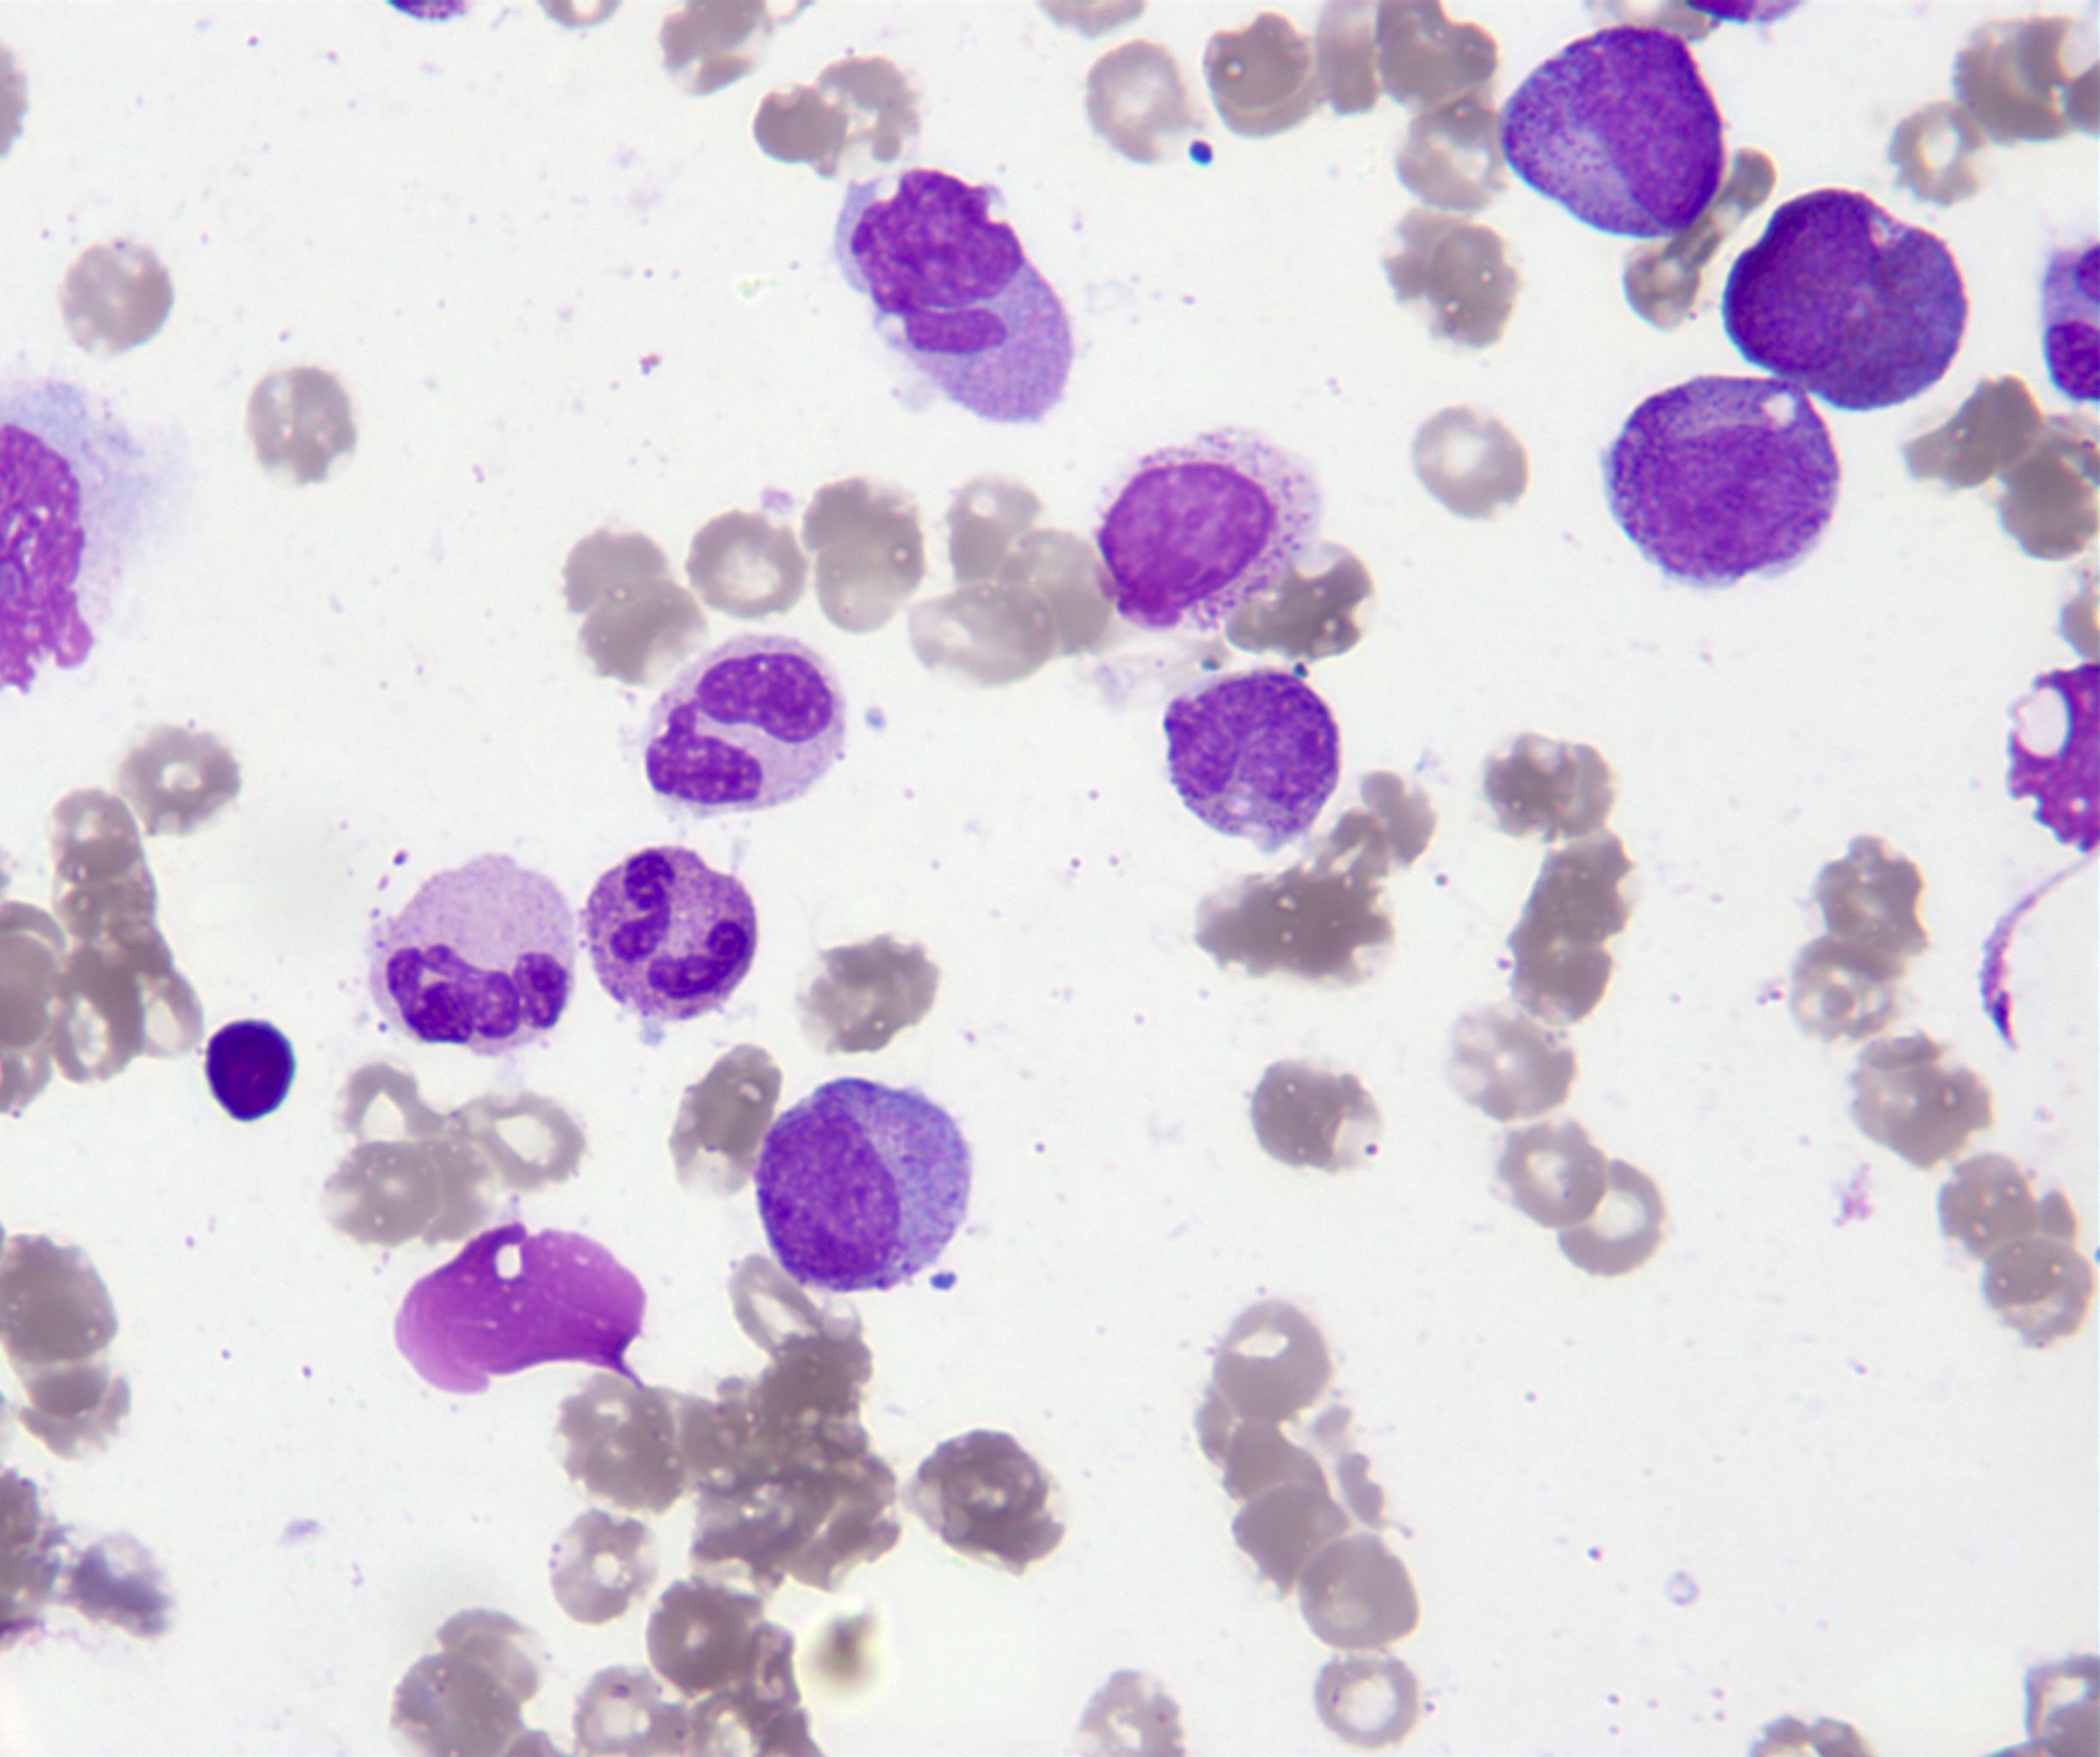3: (1592, 365, 1845, 593), (747, 1068, 984, 1302), (1497, 19, 1728, 248)
32: (192, 1010, 309, 1138)
4: (825, 161, 1080, 433), (1148, 658, 1348, 857)
6: (356, 846, 584, 1064), (628, 626, 858, 825), (577, 837, 767, 1035)
E2: (1718, 180, 1973, 415)
x: (1080, 422, 1334, 640)
